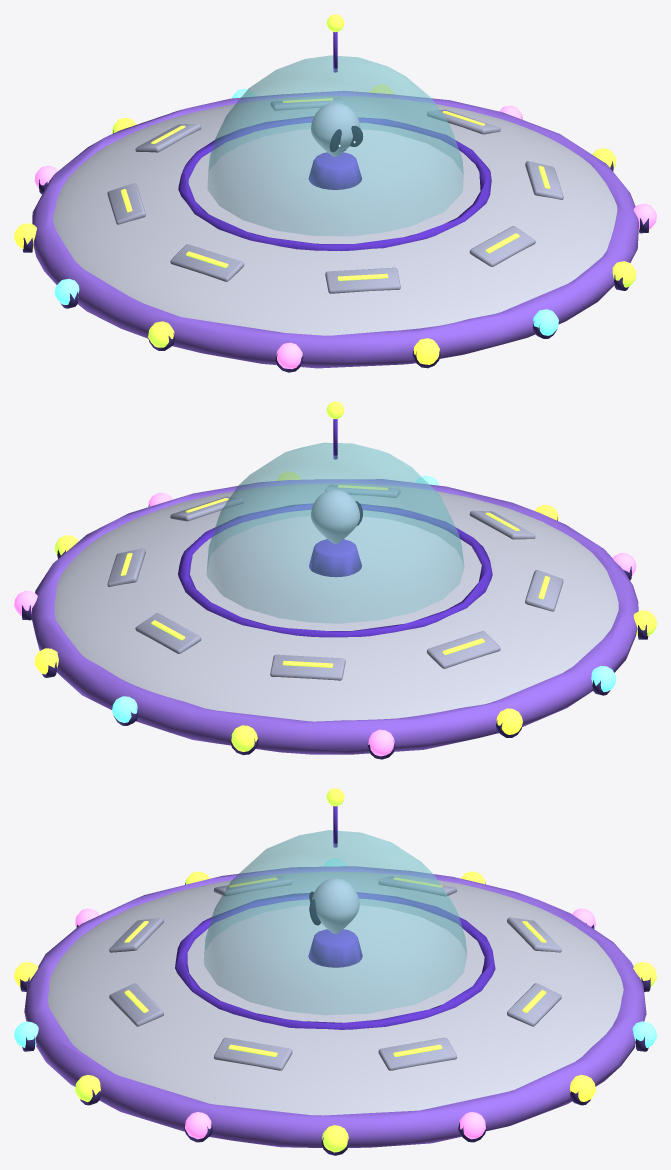
The model's file is saucer.glb.
3 renders of one model, top to bottom at view 1: azimuth 30°, elevation 25°; view 2: azimuth 150°, elevation 25°; view 3: azimuth 270°, elevation 25°, orthographic. The views are drawn at different scales.
Visible parts, largest first — view 1: hull; view 2: hull; view 3: hull.
Boxes of the visible parts, <box> form: hull: <box>14,14,656,372</box>; hull: <box>14,401,656,759</box>; hull: <box>14,788,656,1155</box>.
Bounding box in the file's own units: 11.48 × 5.91 × 11.2.
